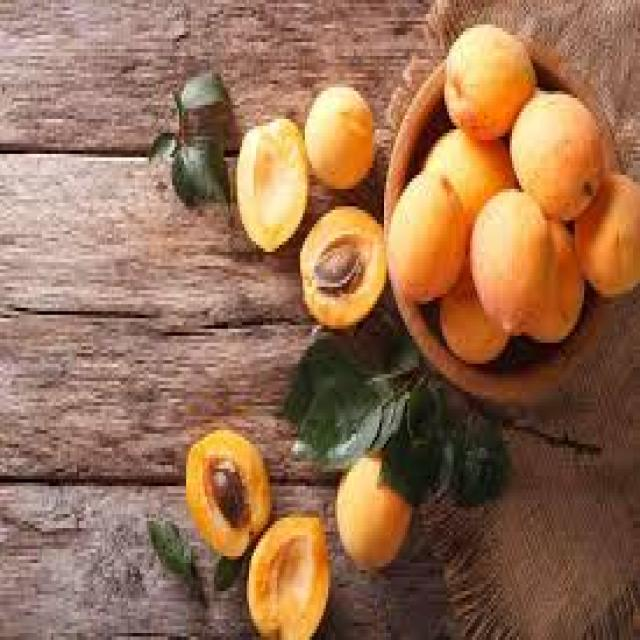Kayisi: (470, 189, 582, 339)
Yaprak: (284, 329, 507, 504)
